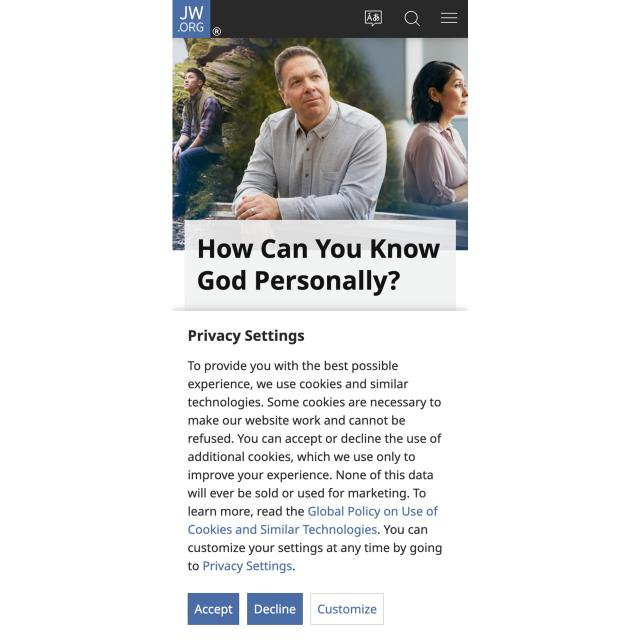CheckBox: (186, 522, 378, 538), (308, 590, 387, 628), (245, 592, 306, 628), (307, 504, 442, 520), (186, 590, 241, 628), (201, 559, 293, 575)
Input field: (184, 356, 453, 579)
accordion: (168, 301, 475, 316)
bag: (171, 0, 470, 38)
breadcrumbs: (184, 327, 311, 346)
carousel: (362, 7, 384, 29), (403, 8, 423, 29), (438, 8, 459, 26)
copy: (171, 39, 468, 251)
date picker: (172, 0, 211, 39)
decoration: (436, 7, 464, 29)
image: (192, 234, 447, 298)
